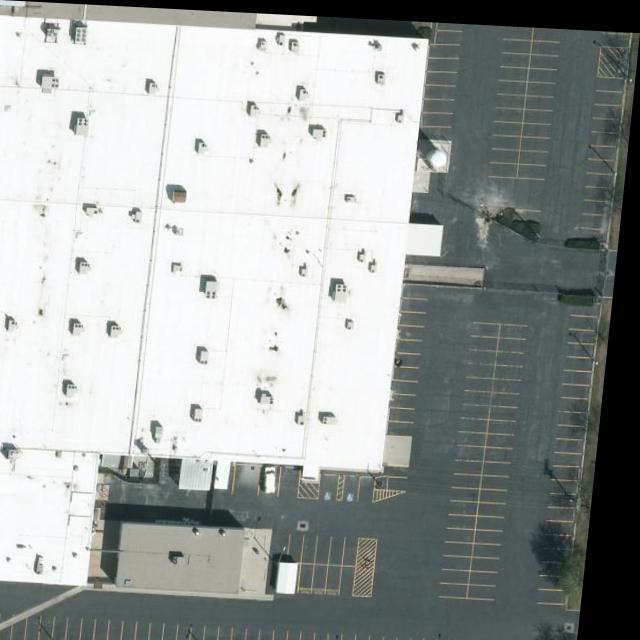vehicle: (272, 463, 288, 492)
